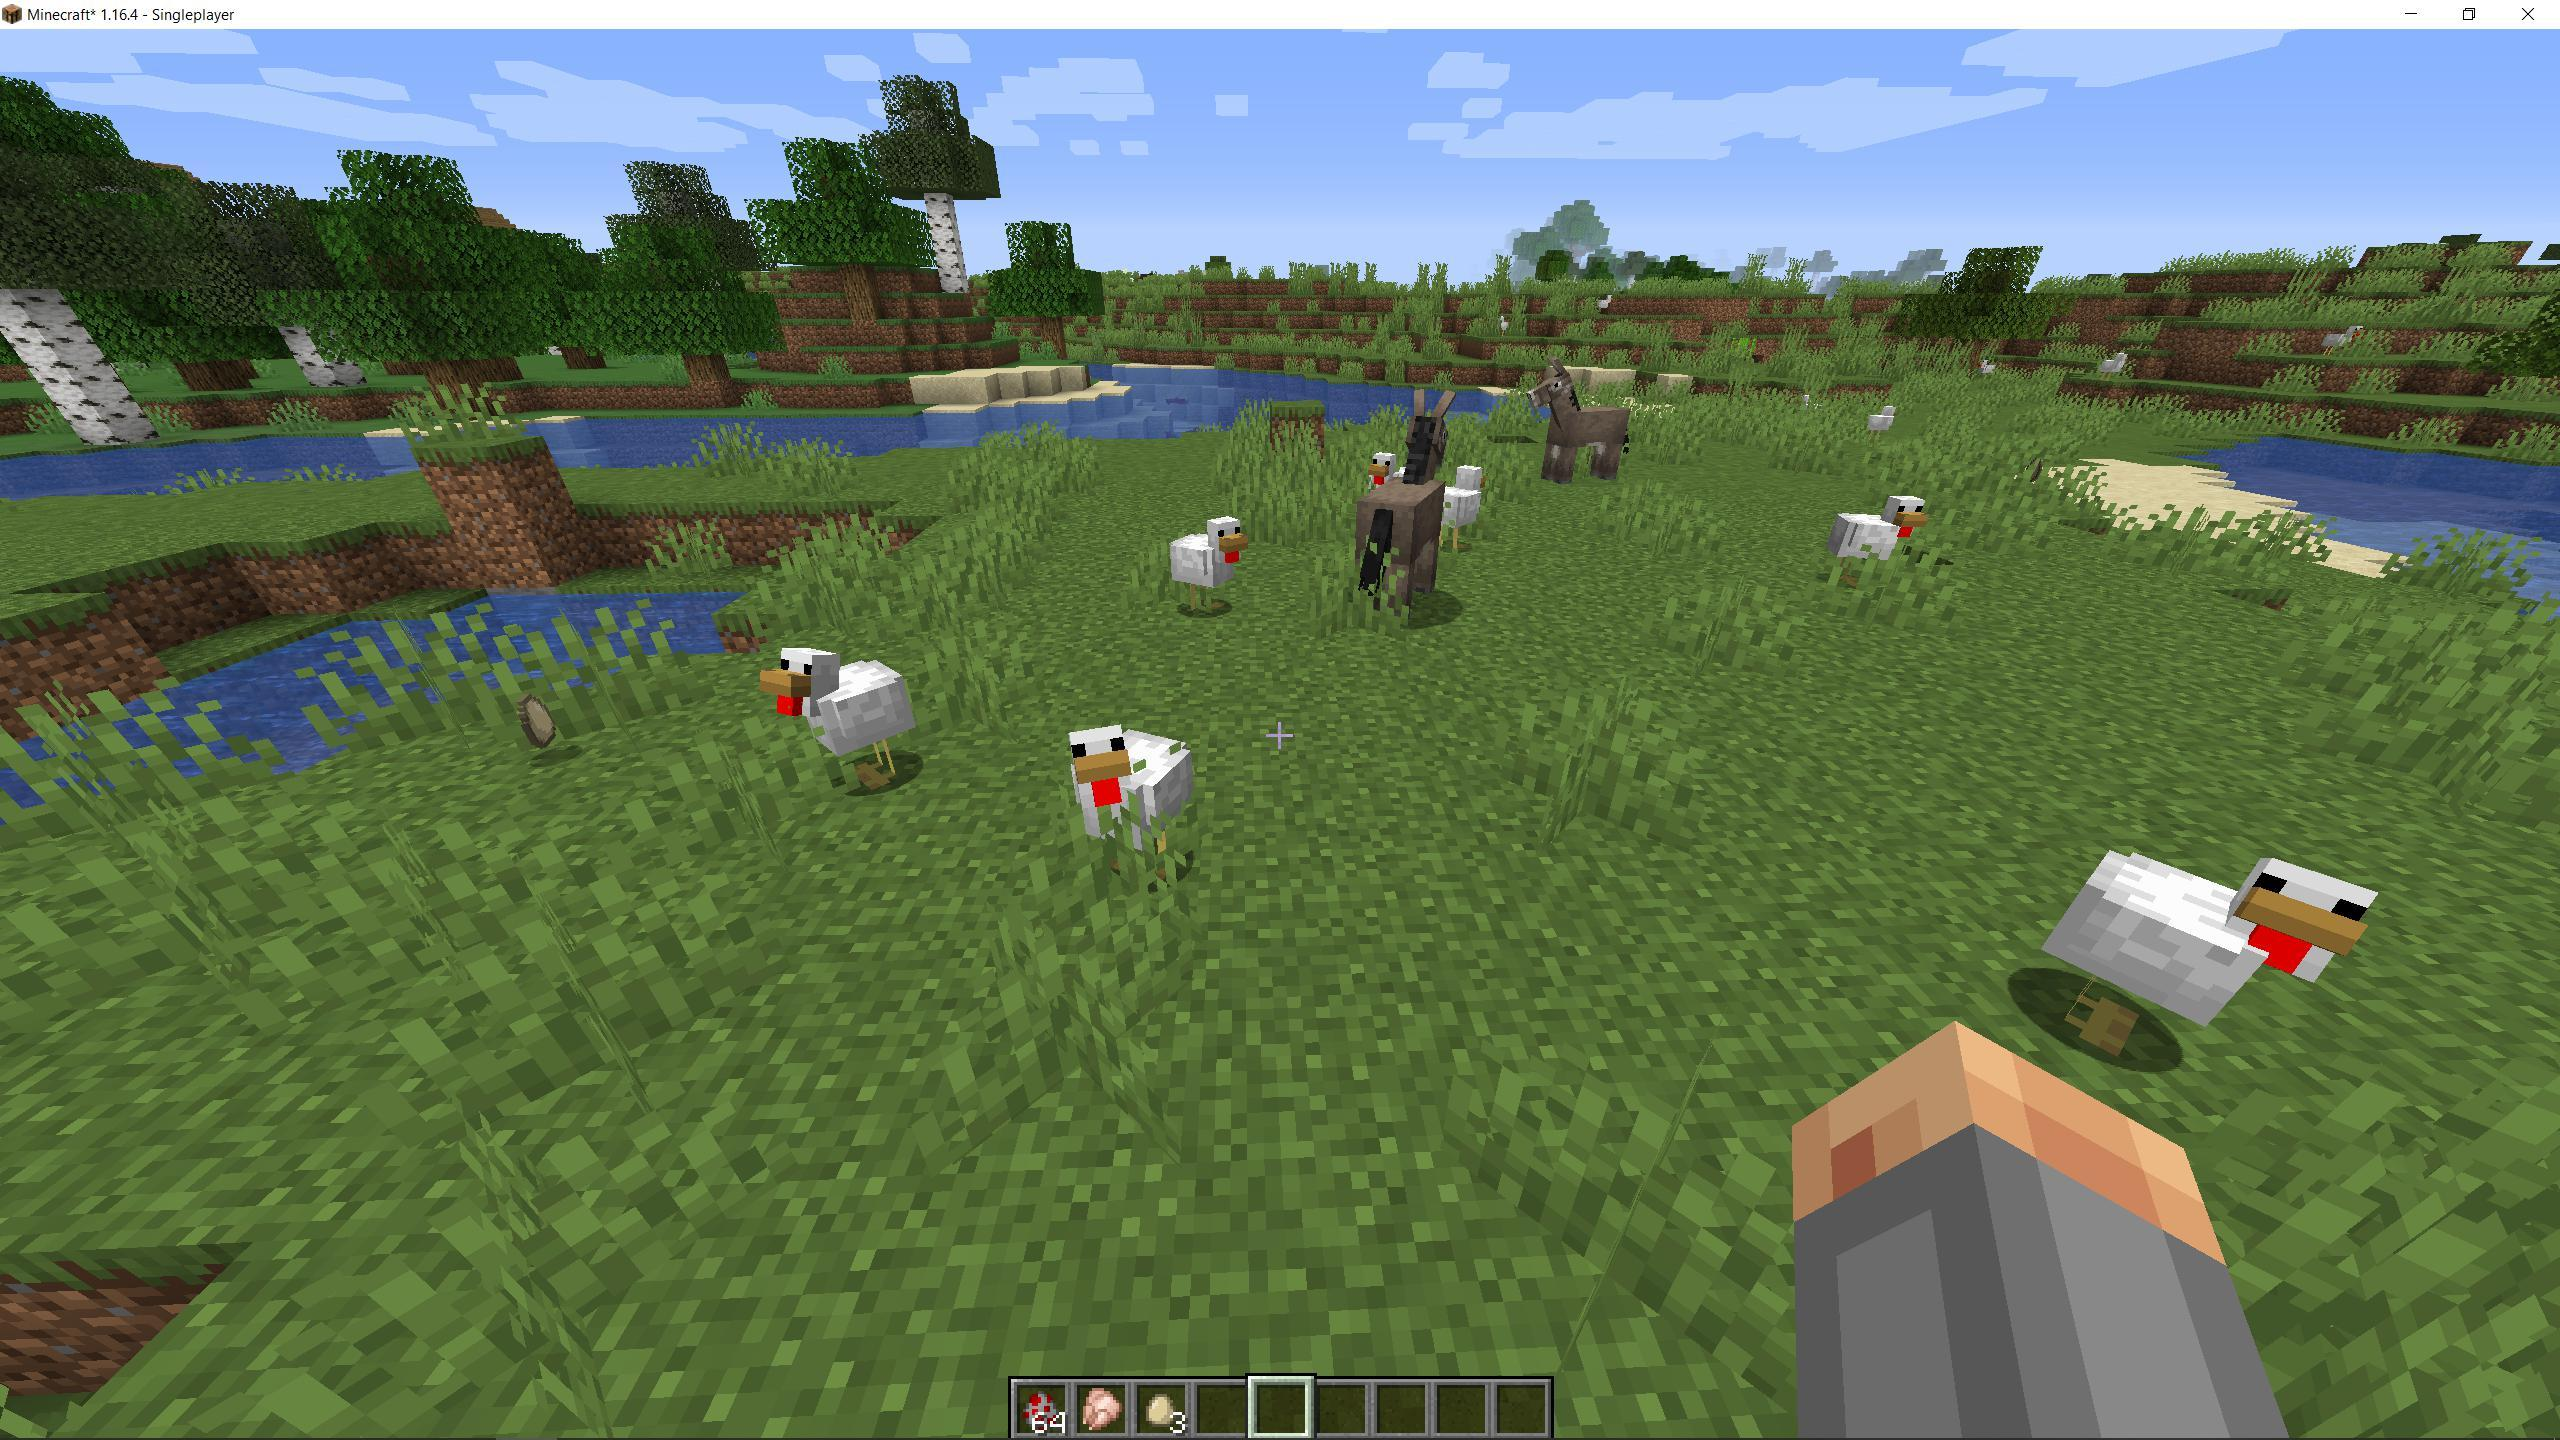chicken: (2025, 837, 2379, 1069), (756, 640, 923, 800), (1064, 716, 1199, 888), (1818, 485, 1931, 598), (1164, 512, 1257, 622), (1438, 462, 1491, 545), (1363, 440, 1419, 498)
